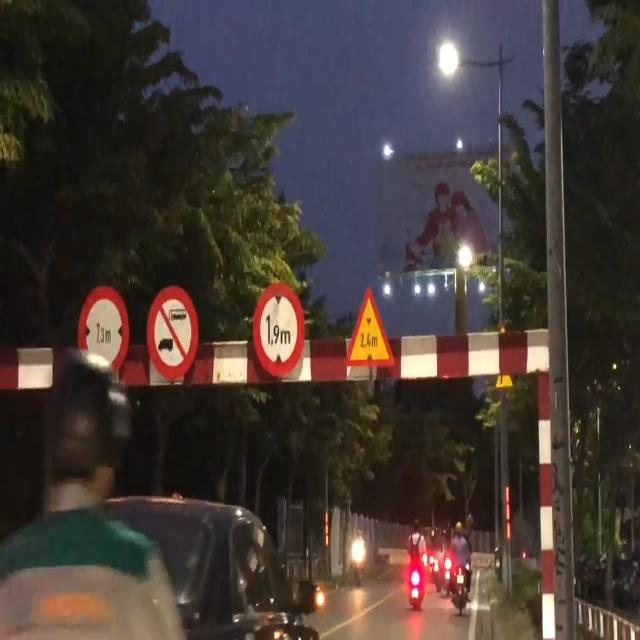Bien bao cam xe oto khach va xe oto tai: (145, 277, 202, 384)
Bien bao chieu cao tinh khong thuc te: (338, 276, 404, 382)
Bien bao han che chieu cao: (252, 278, 310, 389)
